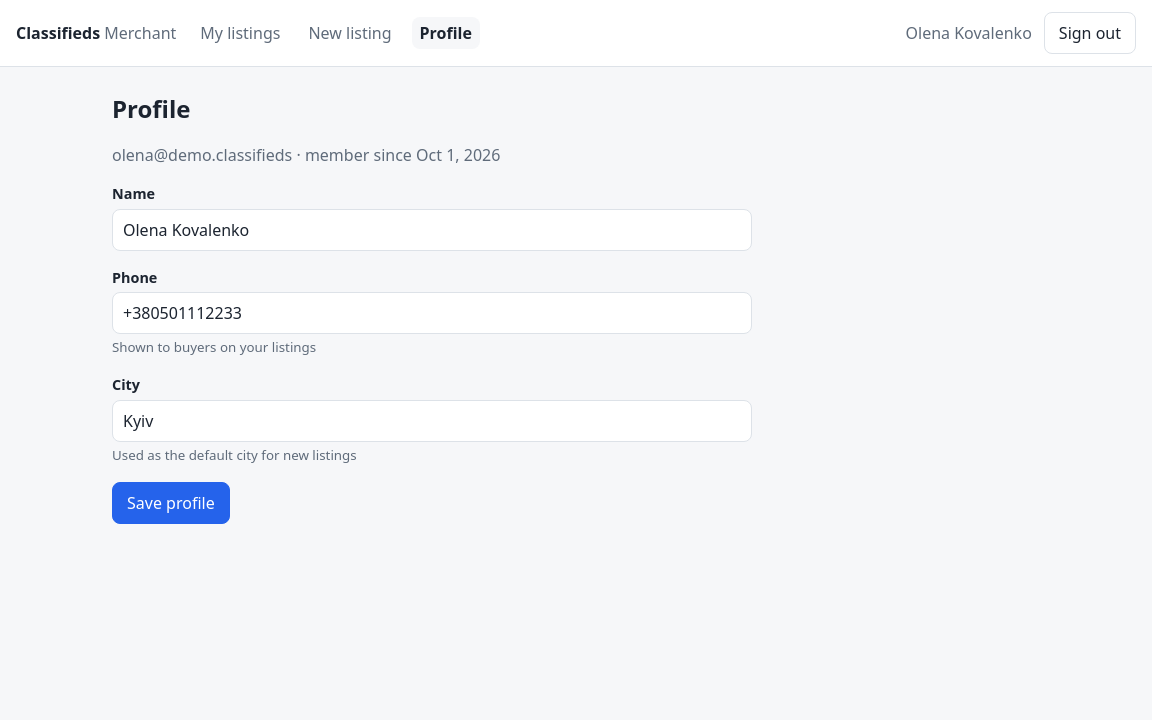
Test case: profile page › shows field errors from the API
Expected: the field showing "Olena Kovalenko" is shown, [112,209,752,251]
Click the button "Save profile" at (171, 503), box [112,482,230,524]
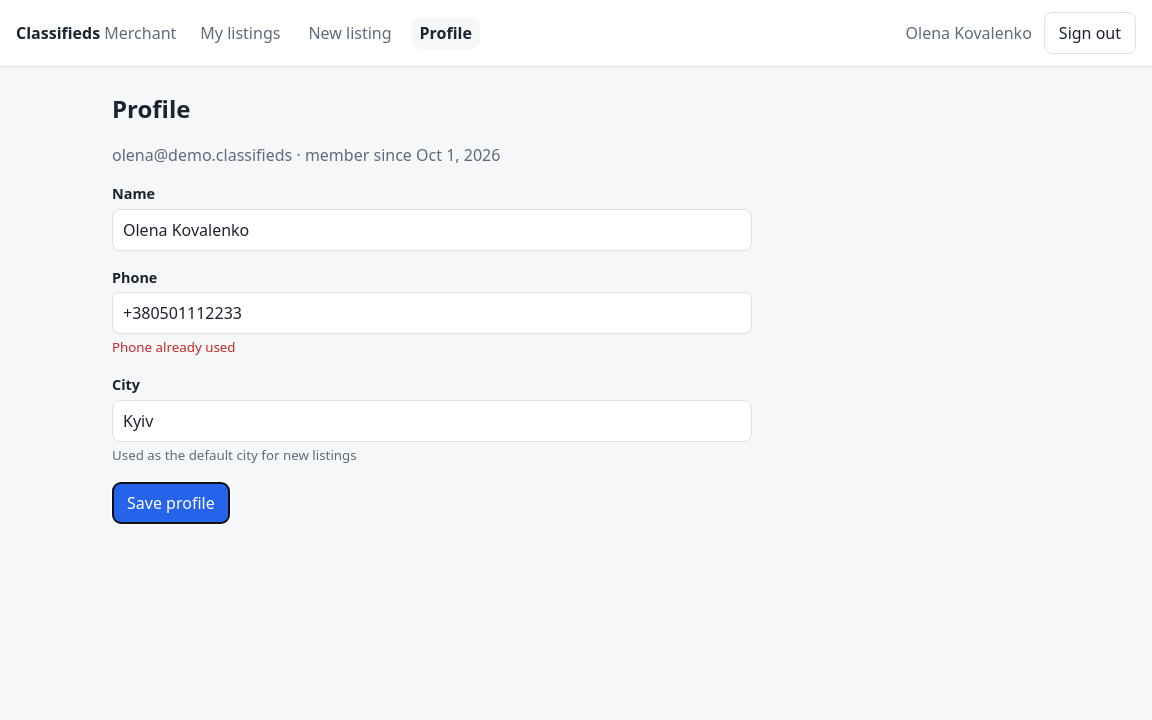
Expected: the text "Phone already used" is shown, [112,338,236,356]
